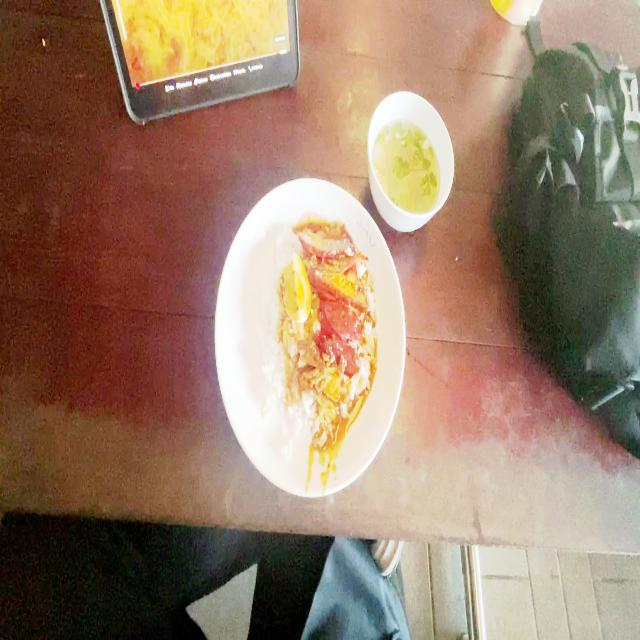red_pork_and_crispy_pork: (260, 234, 372, 422)
